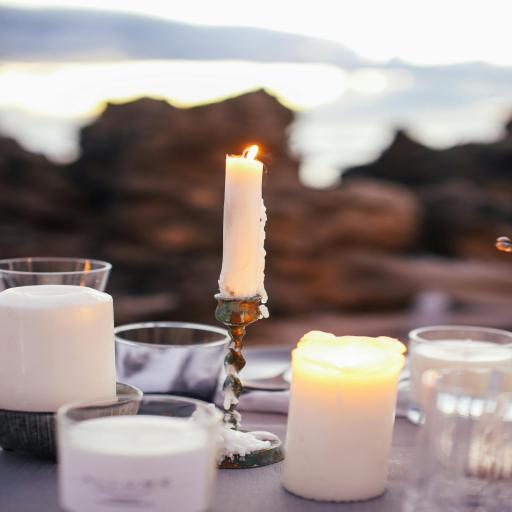candlelight: (282, 330, 406, 503), (218, 150, 270, 286)
